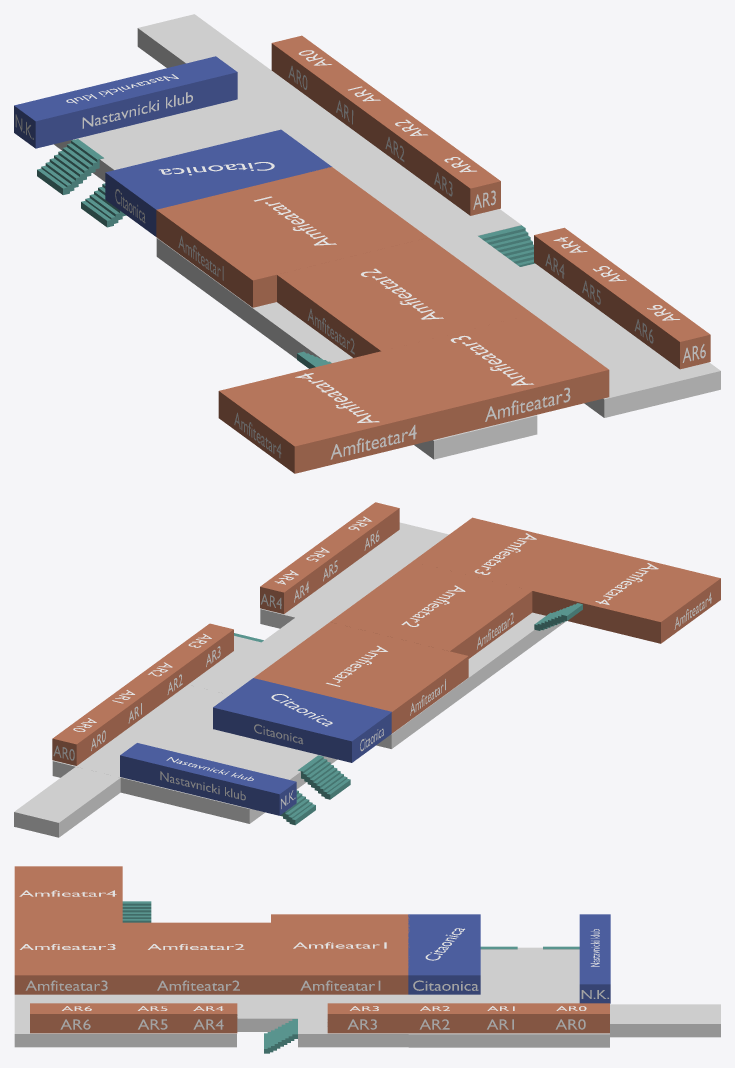
Rendered from NastavniBlok2.glb.
The picture shows the model from 3 angles, top to bottom: view 1: azimuth 30°, elevation 25°; view 2: azimuth 150°, elevation 25°; view 3: azimuth 270°, elevation 25°; orthographic projection. The views are drawn at different scales.
Parts seen in each view (by area): view 1: A1, A2, A4, A3, Sprat1, NastavnickiKlub, Citaonica, DugackiHodnik.004, DugackiHodnik.002, DugackiHodnik.001, AR6, DugackiHodnik.003 (+7 smaller); view 2: A1, Sprat1, A2, A4, Citaonica, A3, NastavnickiKlub, DugackiHodnik.001, DugackiHodnik.004, HodnikSkriptarnica.001, DugackiHodnik.002, AR6 (+7 smaller); view 3: A1, A2, Sprat1, A3, DugackiHodnik.001, Citaonica, A4, HodnikSkriptarnica.001, DugackiHodnik.004, AR6, NastavnickiKlub, AR0 (+9 smaller).
Part boxes in pixels (x1,y1,x2,y2): A1: (156,167,427,307); A2: (277,237,532,357); A4: (218,355,442,473); A3: (367,314,609,437); Sprat1: (54,71,413,187); NastavnickiKlub: (14,56,237,148); Citaonica: (105,129,331,236); DugackiHodnik.004: (485,263,720,408); DugackiHodnik.002: (156,238,537,459); DugackiHodnik.001: (361,181,675,417); AR6: (612,285,710,369); DugackiHodnik.003: (364,175,521,244); A1: (254,622,468,733); Sprat1: (52,685,337,823); A2: (330,561,532,658); A4: (544,550,720,643); Citaonica: (213,678,391,762); A3: (412,517,603,615); NastavnickiKlub: (120,743,296,815); DugackiHodnik.001: (200,527,448,694); DugackiHodnik.004: (260,522,444,628); HodnikSkriptarnica.001: (14,767,120,837); DugackiHodnik.002: (376,612,565,748); AR6: (322,502,399,568); A1: (271,914,409,994); A2: (122,922,270,994); Sprat1: (408,947,609,1047); A3: (14,917,122,994); DugackiHodnik.001: (14,994,408,1031); Citaonica: (408,914,480,994); A4: (14,866,122,917); HodnikSkriptarnica.001: (610,1004,720,1037); DugackiHodnik.004: (14,1018,236,1047); AR6: (30,1003,125,1033); NastavnickiKlub: (579,914,610,1003); AR0: (537,1003,609,1033).
Bounding box in the file's own units: 5.01 × 0.6318 × 10.1.
